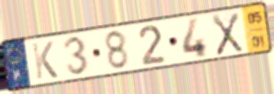2: (137, 23, 168, 67)
3: (62, 34, 91, 77)
4: (181, 16, 211, 60)
8: (103, 29, 132, 71)
K: (29, 39, 60, 81)
X: (210, 11, 245, 58)
